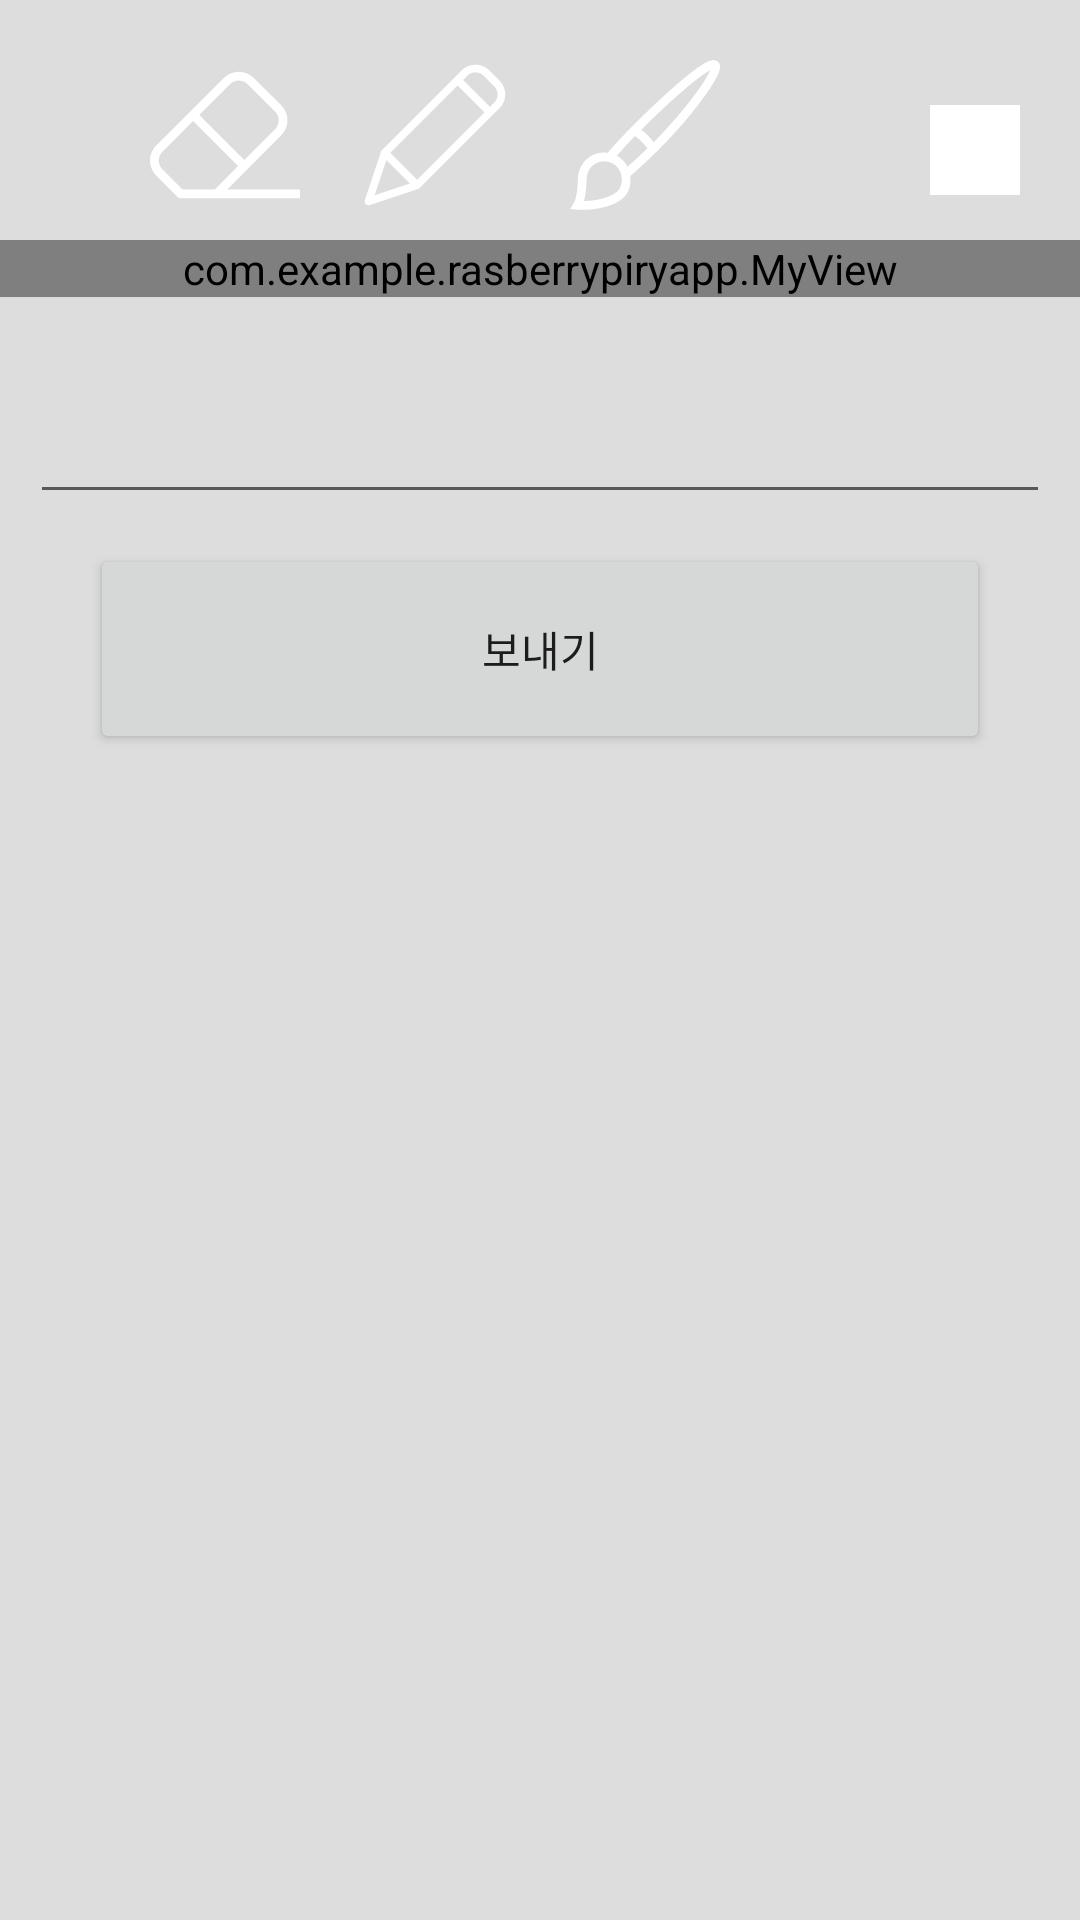

Screen size 1080px×1920px. Icon name, then its box in pixels as (left=x1, top=y1, right=x2, bottom=y2):
brush: (left=571, top=60, right=720, bottom=210)
eraser: (left=150, top=72, right=300, bottom=198)
pen: (left=365, top=65, right=505, bottom=205)
